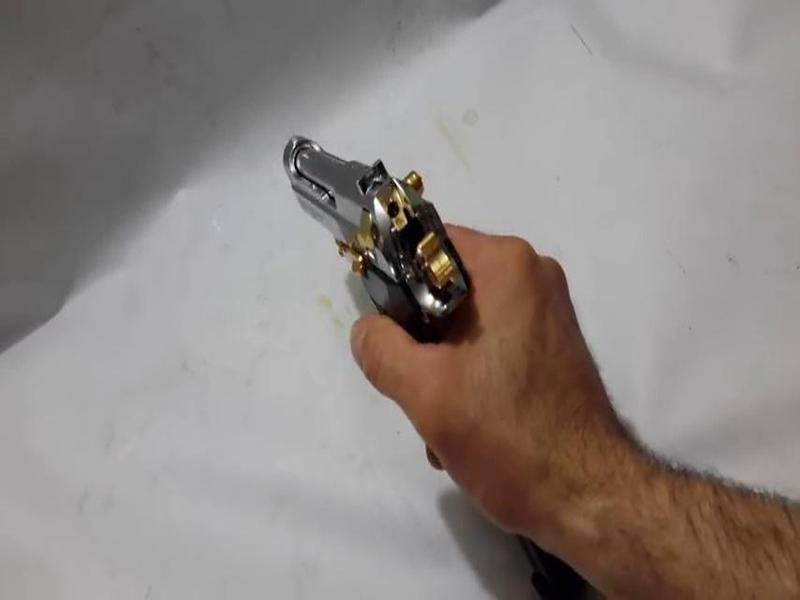Pistola: (251, 137, 567, 462)
